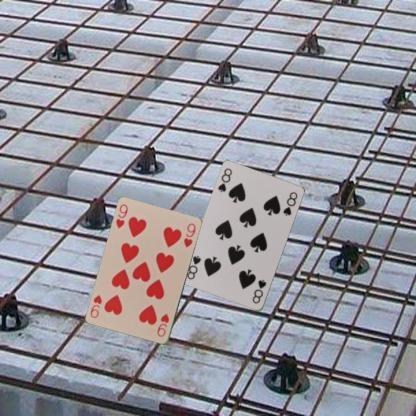8s: (249, 277, 268, 304), (216, 166, 234, 194)
9h: (114, 201, 130, 230), (154, 311, 170, 338)
